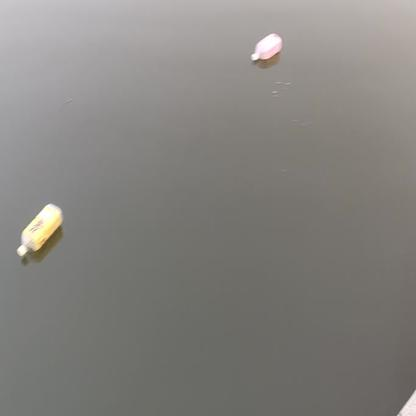plastic bottle: (17, 203, 64, 257), (252, 33, 283, 61)
